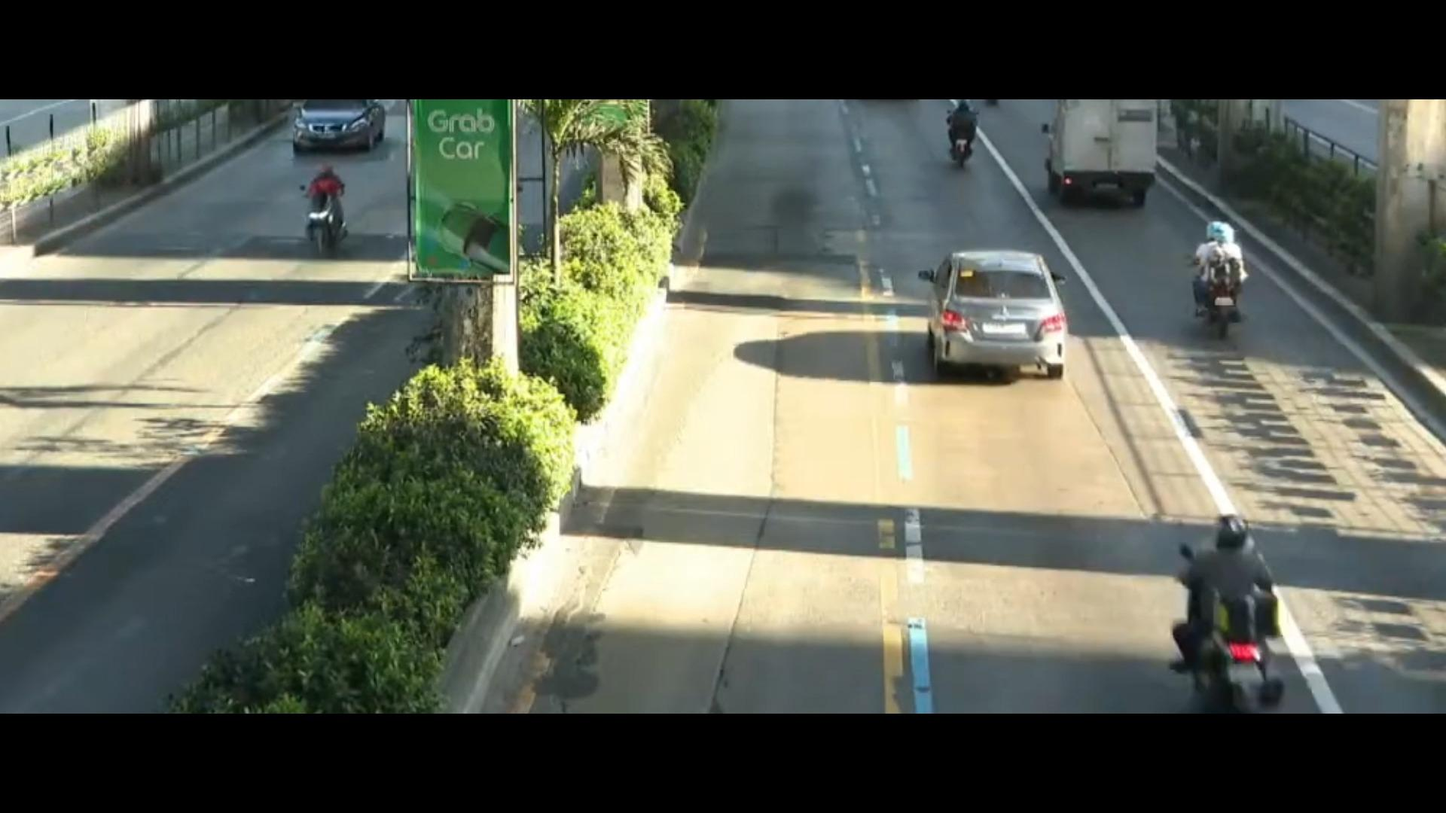Motorcycle: (1153, 465, 1322, 711), (1171, 204, 1273, 345), (289, 155, 360, 271), (915, 96, 1008, 181)
Sedan: (914, 213, 1110, 413), (277, 89, 403, 145)
Truck: (1040, 96, 1190, 218)
